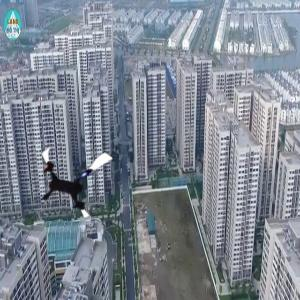drone: (31, 135, 121, 225)
